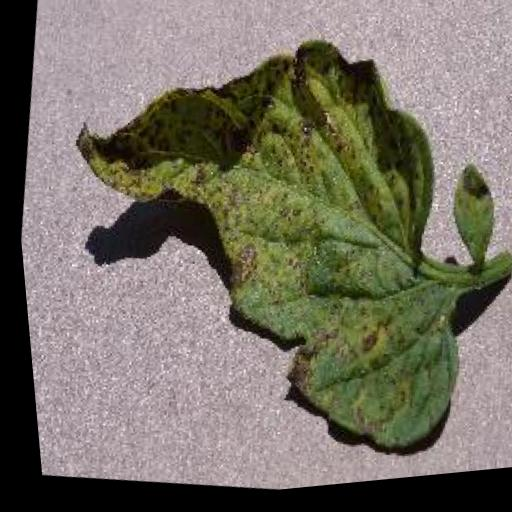Septoria: (18, 1, 504, 489)
